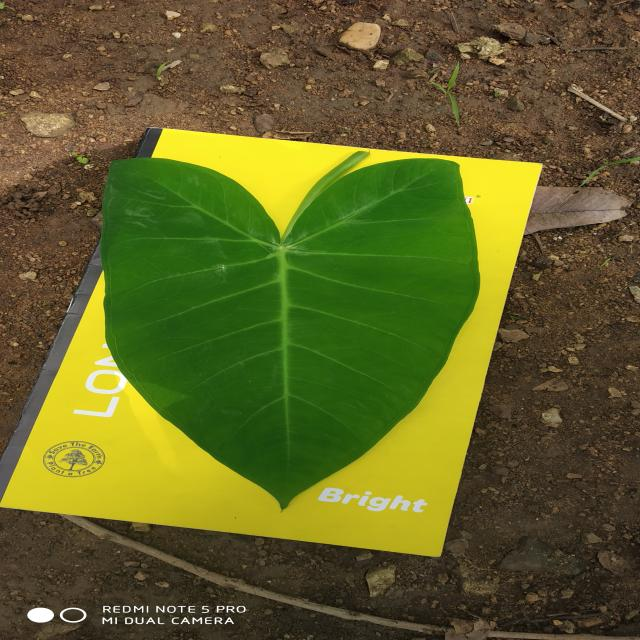taro: (100, 151, 480, 509)
